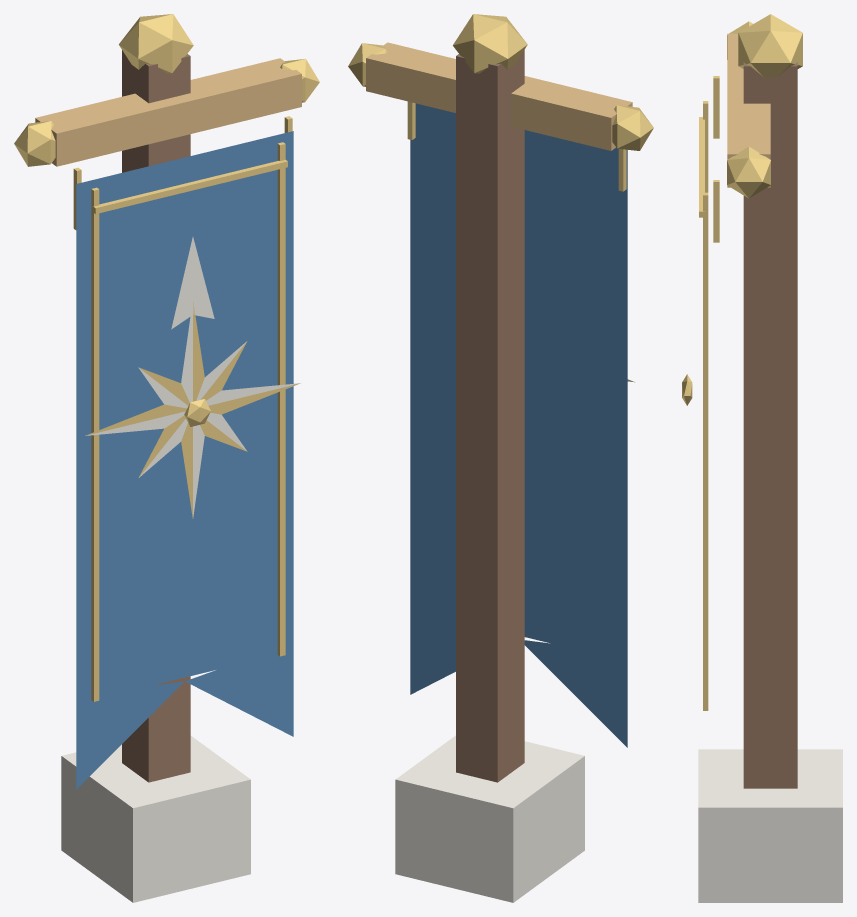
File: banner-compass.glb
3 renders of one model, left to right at view 1: azimuth 30°, elevation 25°; view 2: azimuth 150°, elevation 25°; view 3: azimuth 270°, elevation 25°, orthographic.
Visible parts, largest first — view 1: banner_compass_navy, banner_compass_stone_light, banner_compass_gold, banner_compass_wood_light, banner_compass_wood_dark, banner_compass_white; view 2: banner_compass_navy, banner_compass_wood_dark, banner_compass_stone_light, banner_compass_wood_light, banner_compass_gold; view 3: banner_compass_wood_dark, banner_compass_stone_light, banner_compass_gold, banner_compass_wood_light.
Part boxes in pixels (left/top/right/bottom): banner_compass_navy: left=76, top=131, right=293, bottom=789; banner_compass_stone_light: left=61, top=735, right=250, bottom=902; banner_compass_gold: left=14, top=14, right=319, bottom=701; banner_compass_wood_light: left=35, top=58, right=301, bottom=166; banner_compass_wood_dark: left=122, top=50, right=190, bottom=782; banner_compass_white: left=85, top=237, right=299, bottom=518; banner_compass_navy: left=410, top=103, right=627, bottom=747; banner_compass_wood_dark: left=456, top=50, right=524, bottom=782; banner_compass_stone_light: left=395, top=735, right=584, bottom=902; banner_compass_wood_light: left=366, top=42, right=632, bottom=150; banner_compass_gold: left=348, top=14, right=653, bottom=381; banner_compass_wood_dark: left=743, top=62, right=797, bottom=788; banner_compass_stone_light: left=698, top=749, right=842, bottom=902; banner_compass_gold: left=682, top=14, right=802, bottom=710; banner_compass_wood_light: left=727, top=33, right=770, bottom=187.
Bounding box in the file's own units: 0.9425 × 2.6 × 0.4455.
